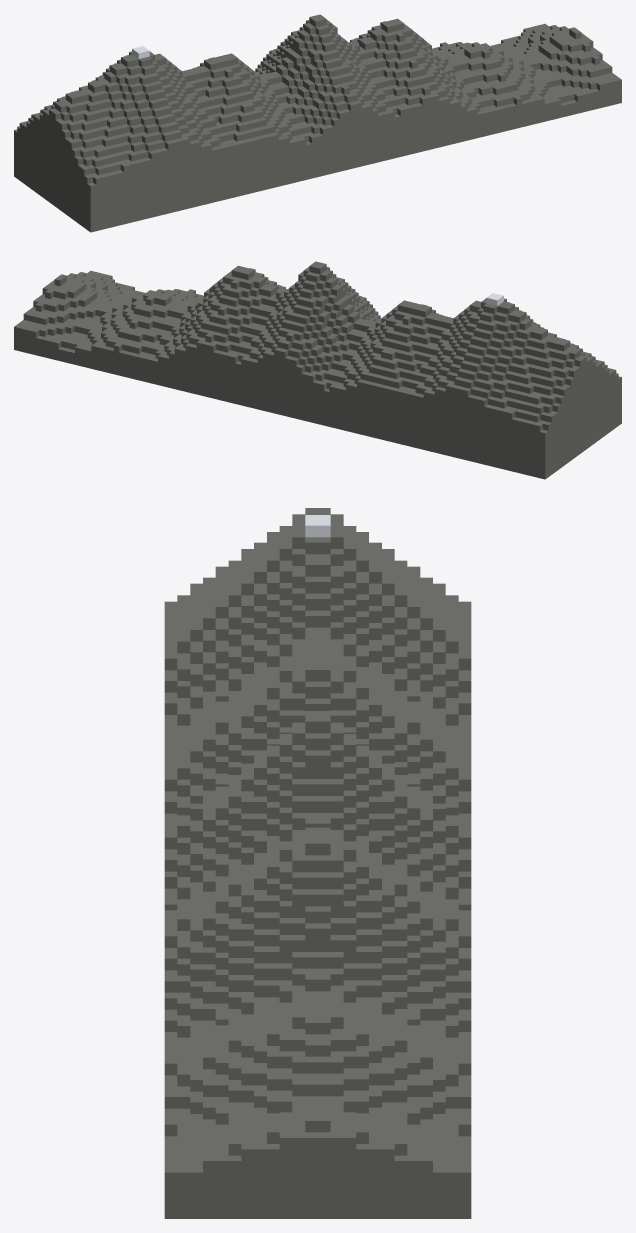
The model's file is ridge_b.obj.
3 views of the same model, one above another, from view 1: azimuth 30°, elevation 25°; view 2: azimuth 150°, elevation 25°; view 3: azimuth 270°, elevation 25° (orthographic). The views are drawn at different scales.
Bounding box in the file's own units: 9.6 × 2.3 × 2.4.
Materials: 1 (1 with a texture image).
